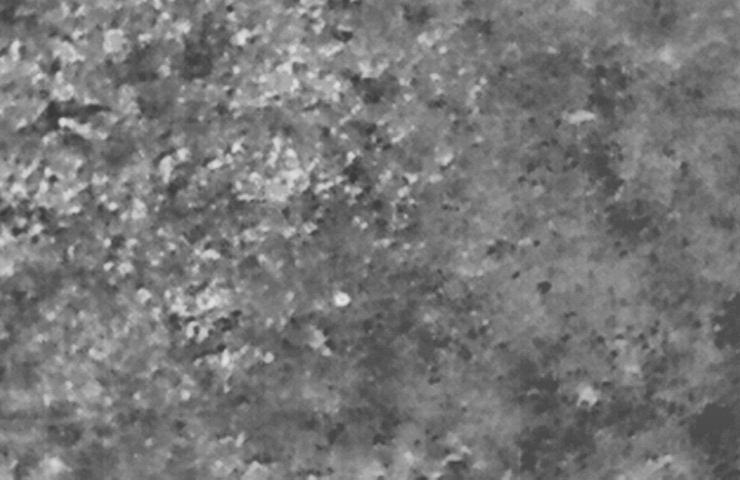landmines: (329, 287, 358, 314)
